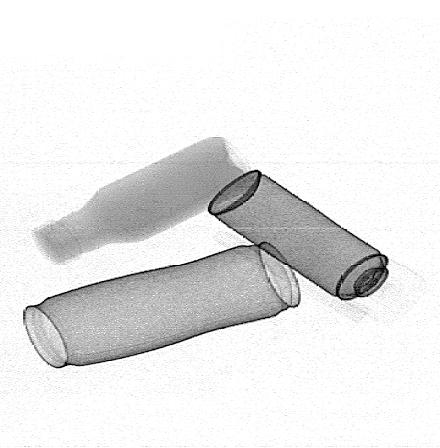Sprayer: (207, 170, 425, 321)
